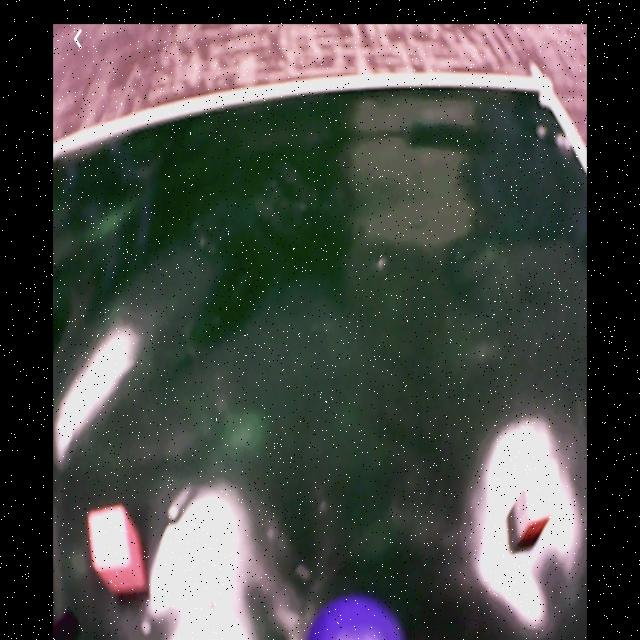ball: (303, 596, 402, 640)
